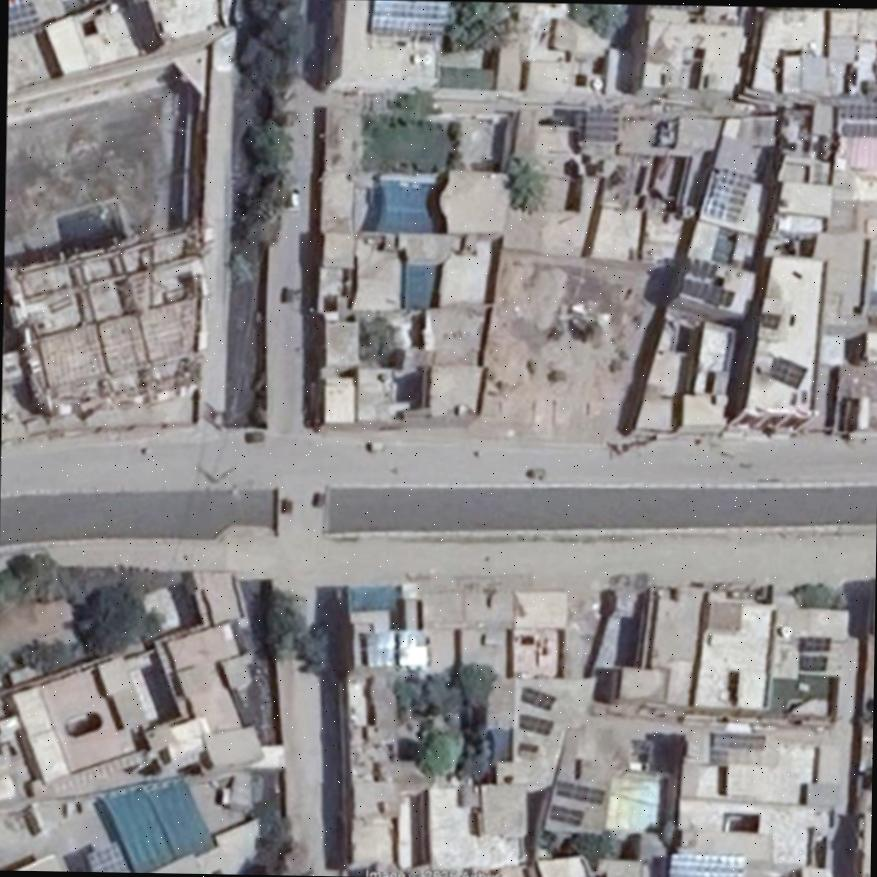Solarpanel: (706, 165, 752, 225), (371, 0, 447, 32), (671, 855, 743, 877), (681, 277, 735, 306), (86, 840, 130, 871), (7, 0, 40, 39), (768, 355, 806, 388), (558, 780, 604, 803), (585, 106, 616, 140), (364, 631, 393, 667), (399, 628, 427, 664), (549, 803, 585, 827), (518, 712, 555, 733), (522, 685, 556, 707), (840, 102, 877, 118), (798, 654, 828, 670), (799, 636, 831, 651), (843, 124, 877, 136), (757, 313, 777, 325)
